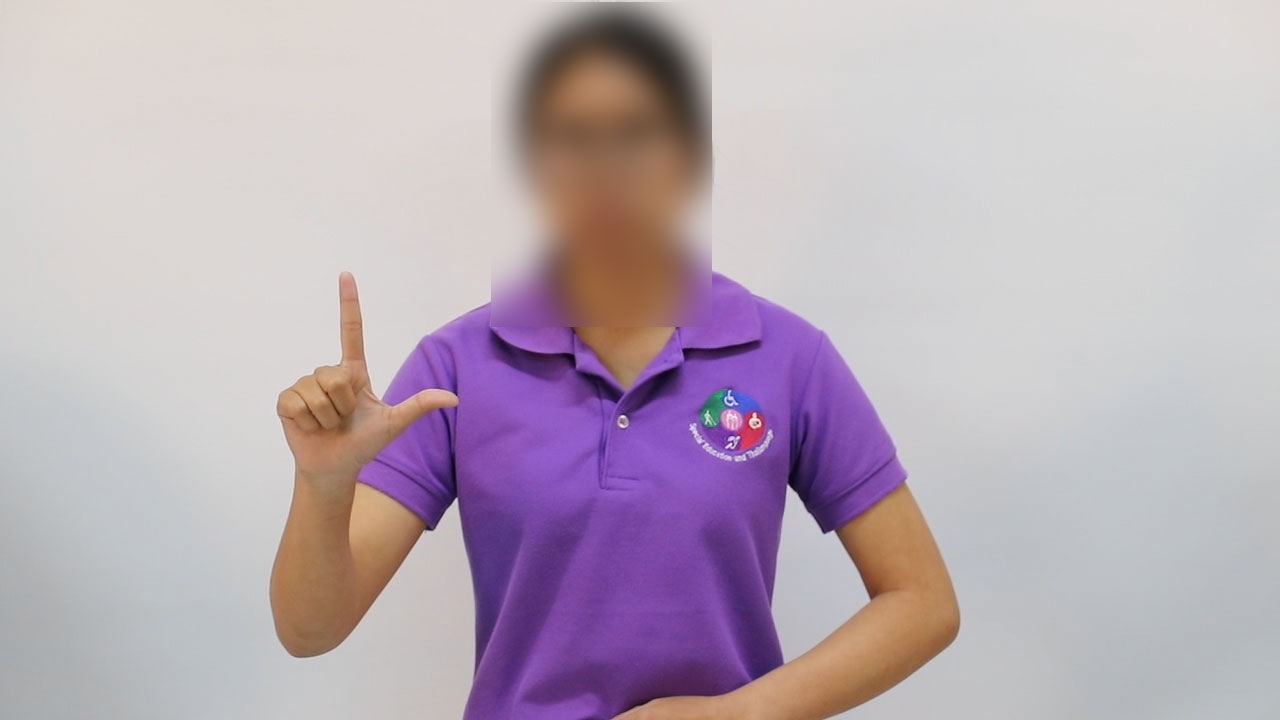lor: (258, 262, 471, 478)
